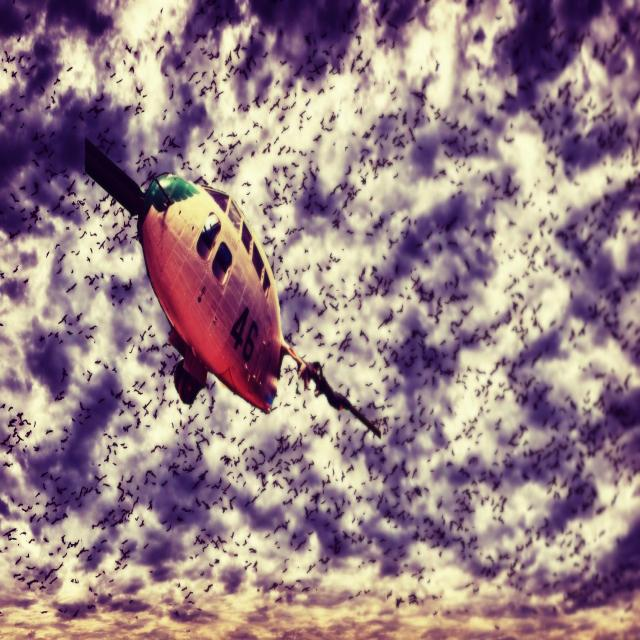airplane: (84, 134, 382, 440)
